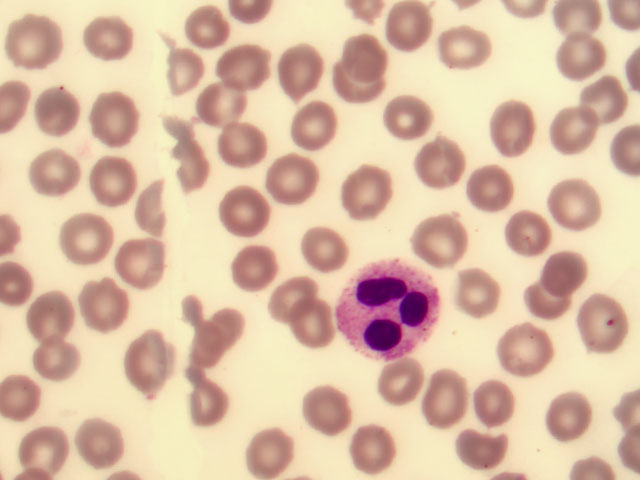RBC: (6, 12, 65, 73), (27, 82, 86, 143), (92, 86, 151, 147), (82, 7, 141, 68), (82, 150, 141, 211), (26, 138, 85, 199), (47, 197, 106, 258), (101, 233, 160, 294), (189, 72, 248, 133), (214, 31, 273, 92), (184, 5, 243, 66), (291, 97, 350, 158), (270, 39, 329, 100), (331, 57, 390, 118), (330, 23, 389, 84), (431, 20, 490, 81), (384, 88, 443, 149), (415, 139, 474, 200), (342, 164, 401, 225), (273, 154, 332, 215), (212, 118, 271, 179), (208, 176, 267, 237), (236, 226, 295, 287), (258, 255, 317, 316), (292, 227, 351, 288), (284, 287, 343, 348), (289, 374, 348, 435), (343, 418, 402, 479), (243, 419, 302, 480), (78, 411, 137, 472), (14, 416, 73, 477), (5, 370, 64, 431), (24, 338, 83, 399), (24, 284, 83, 345), (71, 280, 130, 341), (112, 328, 171, 389), (373, 357, 432, 418), (407, 364, 466, 425), (453, 377, 512, 438), (500, 319, 559, 380), (447, 272, 506, 333), (413, 212, 472, 273), (499, 212, 558, 273), (460, 163, 519, 224), (477, 97, 536, 158), (559, 174, 618, 235), (548, 105, 607, 166), (575, 79, 634, 140), (548, 37, 607, 98), (552, 1, 611, 62), (576, 293, 635, 354), (533, 236, 592, 297), (525, 270, 584, 331), (541, 386, 600, 447), (448, 419, 507, 480), (390, 1, 449, 61)
WBC: (337, 258, 441, 361)
